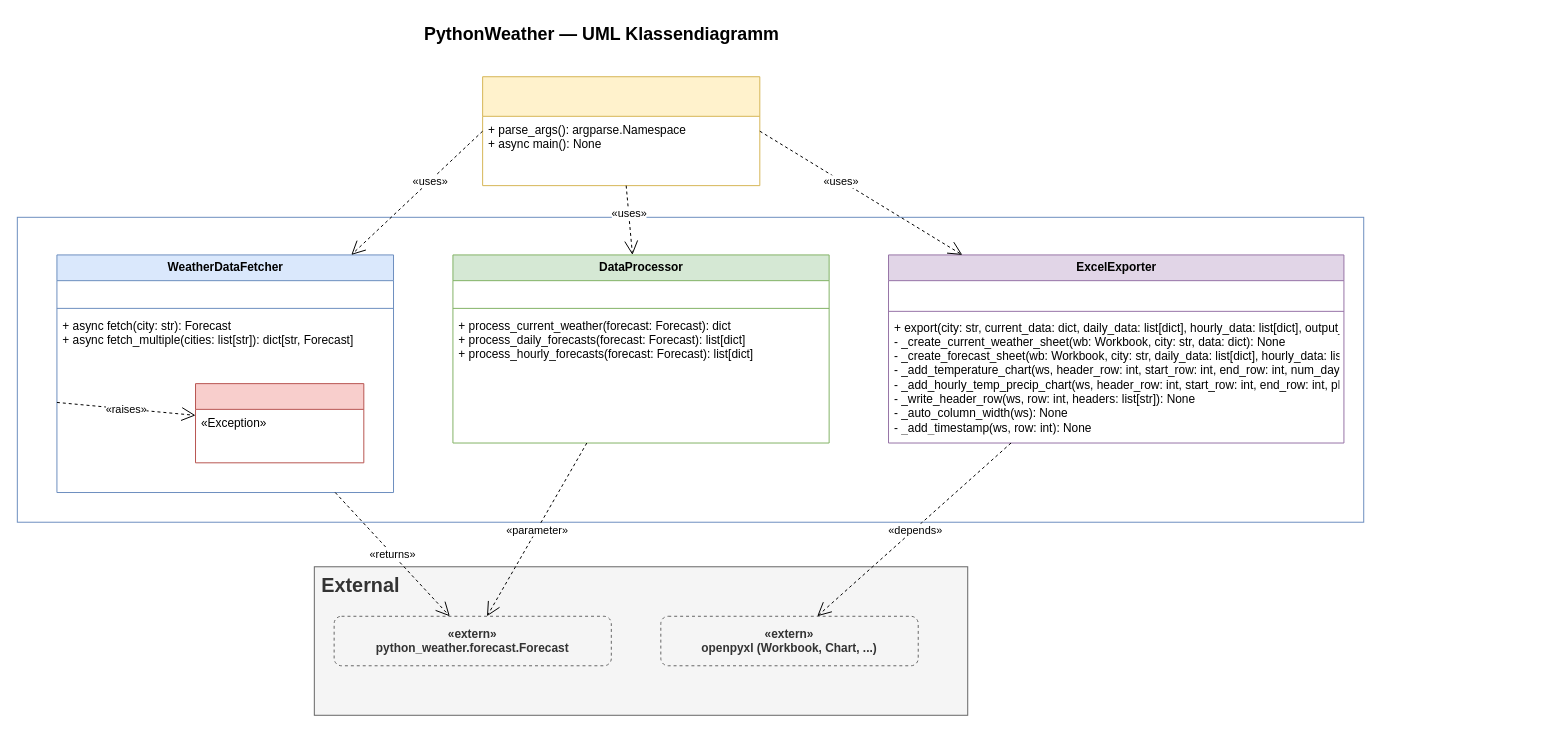
Image size: 1559x733. Some labels were removed from this diagram. The shapes that lost their labels are listed below. From the top down, each one's box as (x1, y1, x2, y2) in pixels, then its label:
(482, 76, 760, 186): «module» main
(16, 216, 1364, 522): Source
(195, 383, 364, 463): WeatherFetchError
